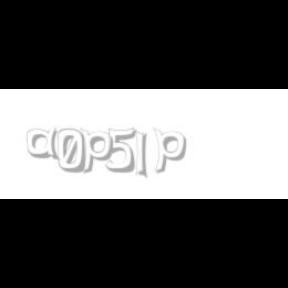0: (57, 128, 88, 174)
5: (106, 128, 136, 174)
I: (136, 128, 148, 180)
a: (26, 128, 64, 160)
p: (80, 128, 118, 174), (154, 128, 190, 174)
